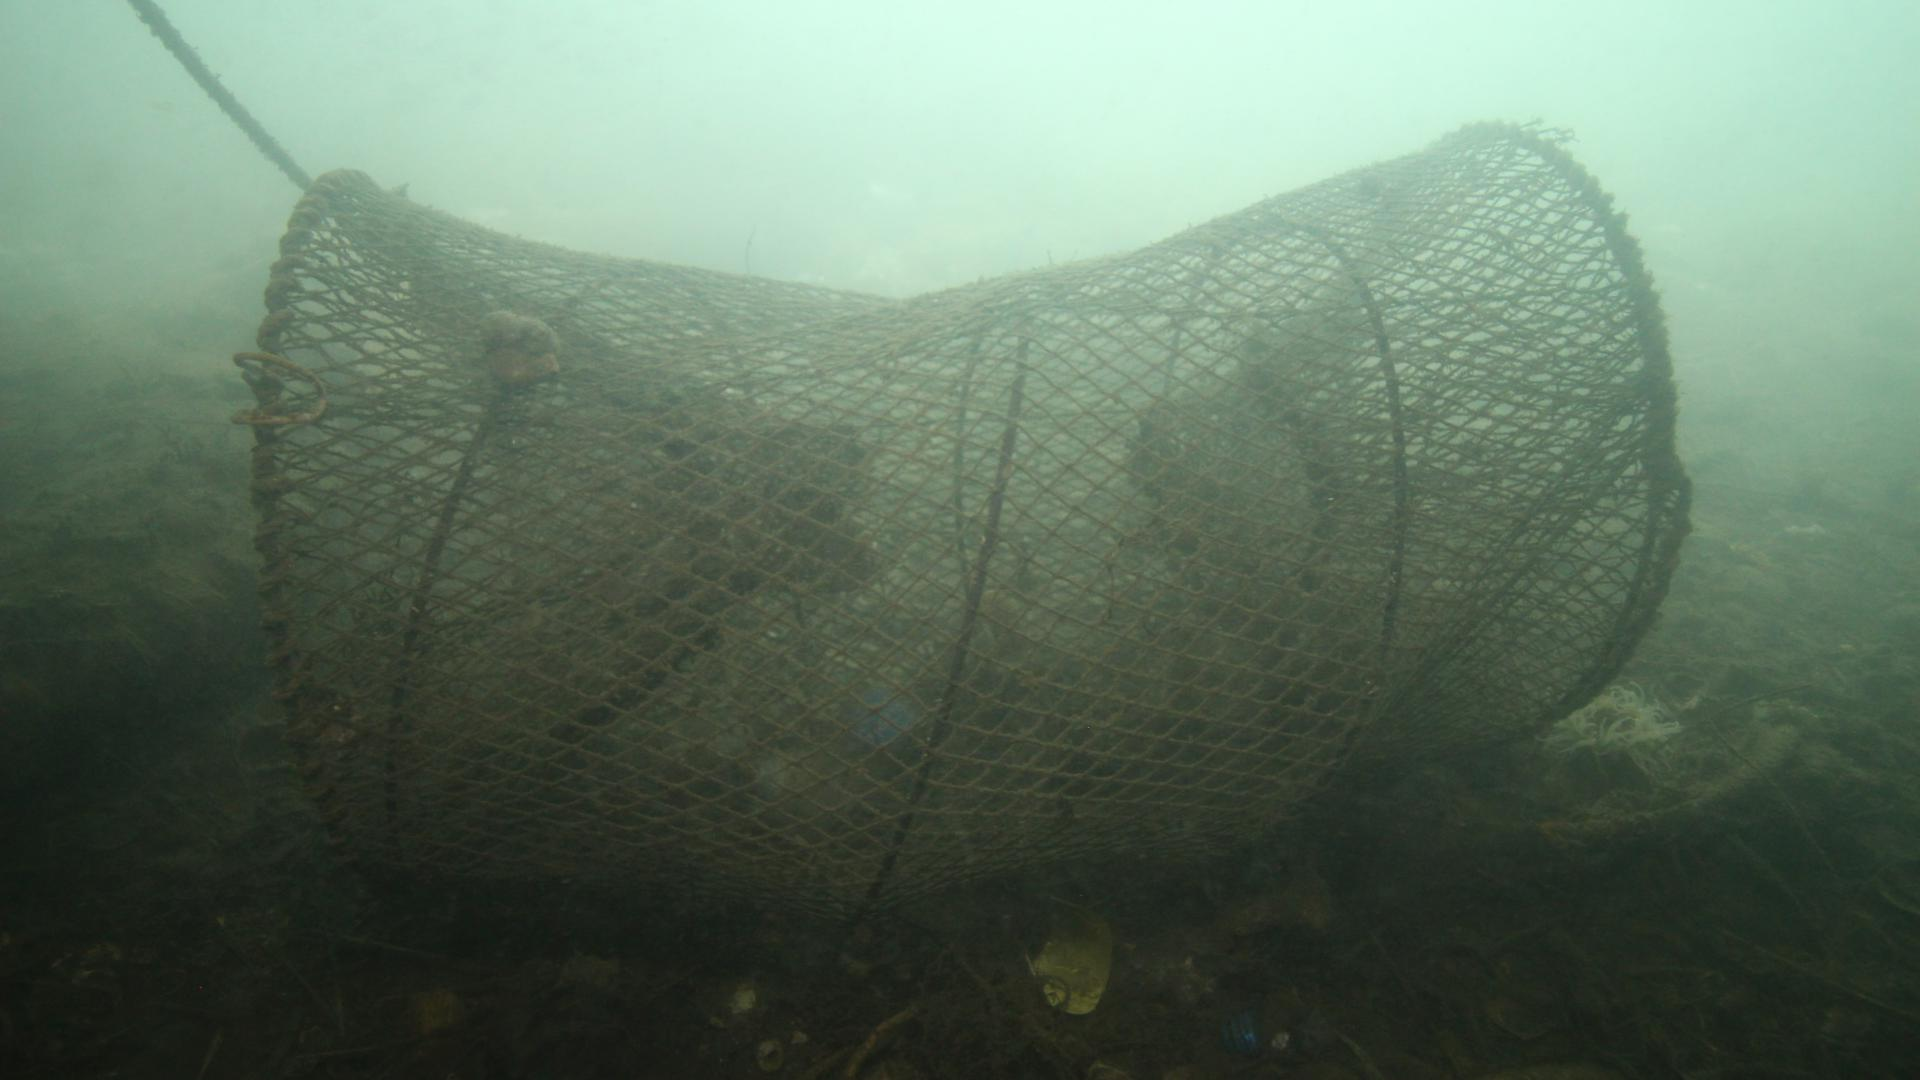rope: (105, 1, 345, 225)
spring fish trap: (248, 123, 1695, 927)
